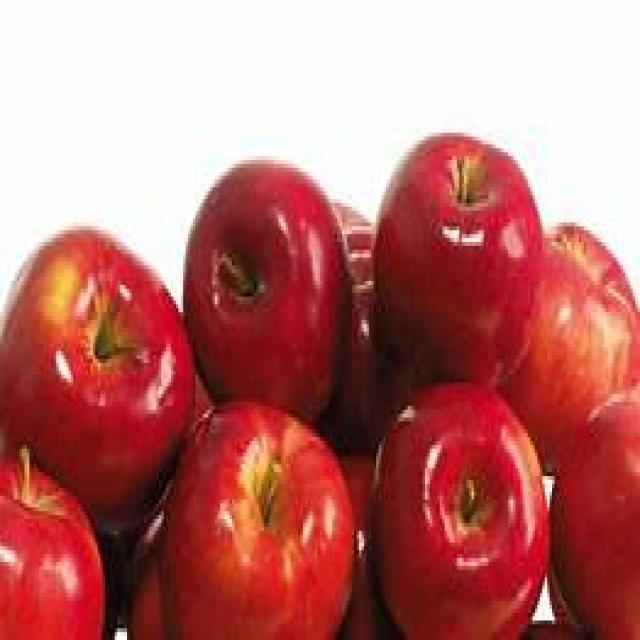apple: (0, 221, 194, 502), (368, 386, 552, 640), (159, 405, 356, 634), (373, 132, 548, 385), (190, 162, 357, 405)
